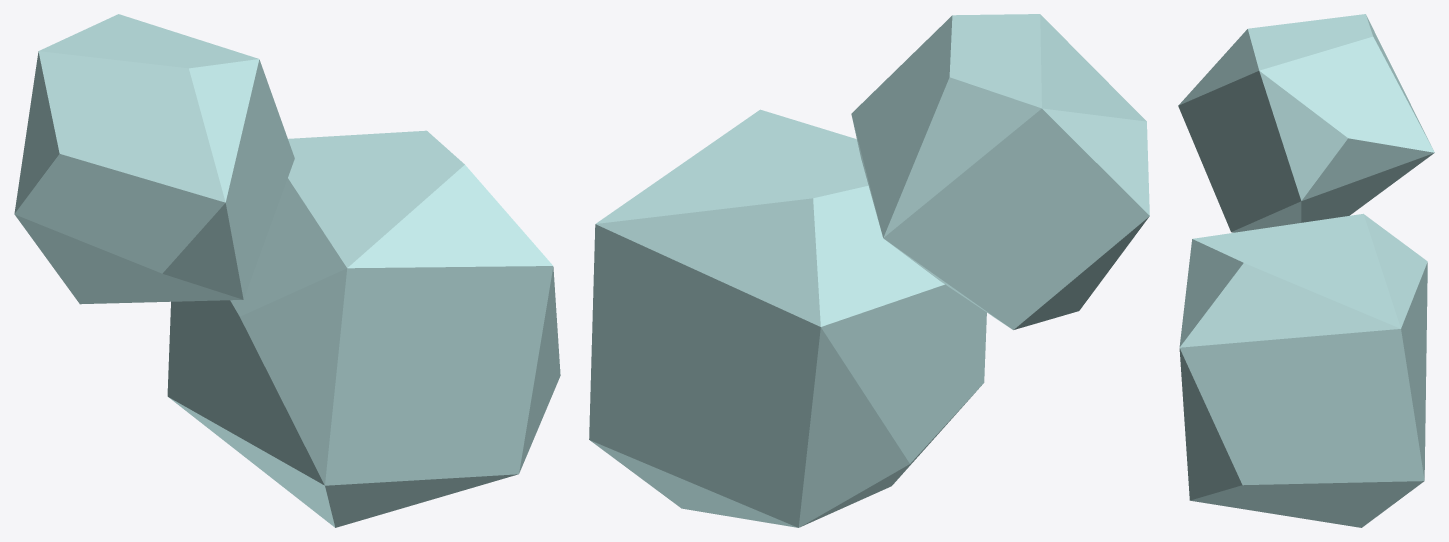
File: cloud-023.glb
3 renders of one model, left to right at view 1: azimuth 30°, elevation 25°; view 2: azimuth 150°, elevation 25°; view 3: azimuth 270°, elevation 25°, orthographic. The views are drawn at different scales.
Visible parts, largest first — view 1: cloud 19_46; view 2: cloud 19_46; view 3: cloud 19_46.
Boxes of the visible parts, left/top/right/bottom form: cloud 19_46: left=14, top=14, right=560, bottom=527; cloud 19_46: left=589, top=14, right=1149, bottom=527; cloud 19_46: left=1178, top=14, right=1434, bottom=527.
Bounding box in the file's own units: 0.4838 × 0.4488 × 0.2661.
